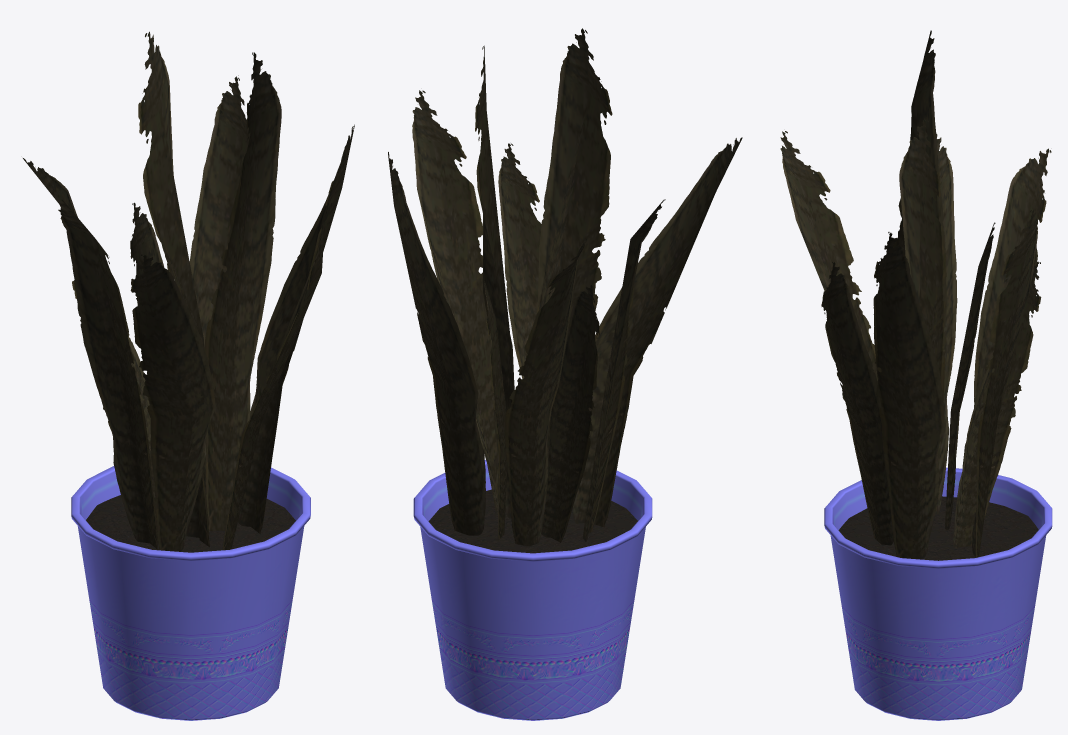
Rendered from SM_PlantA.fbx.
3 renders of one model, left to right at view 1: azimuth 30°, elevation 25°; view 2: azimuth 150°, elevation 25°; view 3: azimuth 270°, elevation 25°, orthographic. The views are drawn at different scales.
Parts seen in each view (by area): view 1: SM_PlantA; view 2: SM_PlantA; view 3: SM_PlantA.
Boxes of the visible parts, <box> form: SM_PlantA: <box>23,31,354,720</box>; SM_PlantA: <box>388,28,742,720</box>; SM_PlantA: <box>780,30,1052,720</box>.
Bounding box in the file's own units: 43.73 × 102 × 39.37.
Materials: 2 (2 with a texture image).
